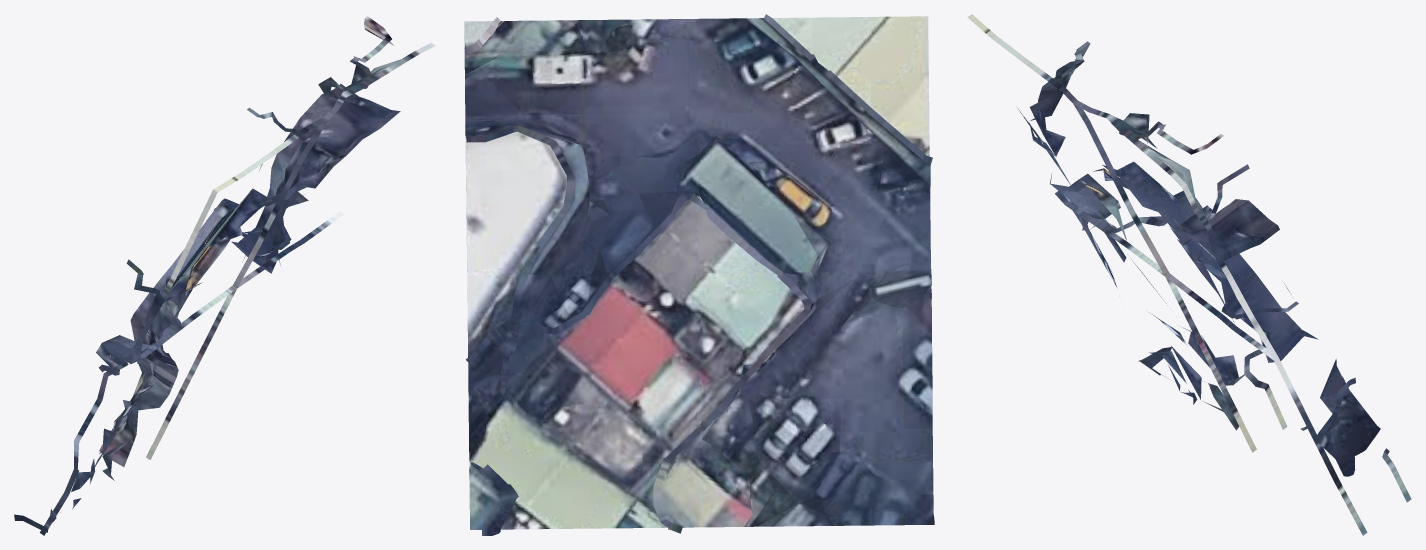
The picture shows the model from 3 angles, left to right: view 1: azimuth 30°, elevation 25°; view 2: azimuth 150°, elevation 25°; view 3: azimuth 270°, elevation 25°; orthographic projection. The views are drawn at different scales.
Size of the model in its own units: 40.31 by 36.92 by 34.91.
Materials: 1 (1 with a texture image).
